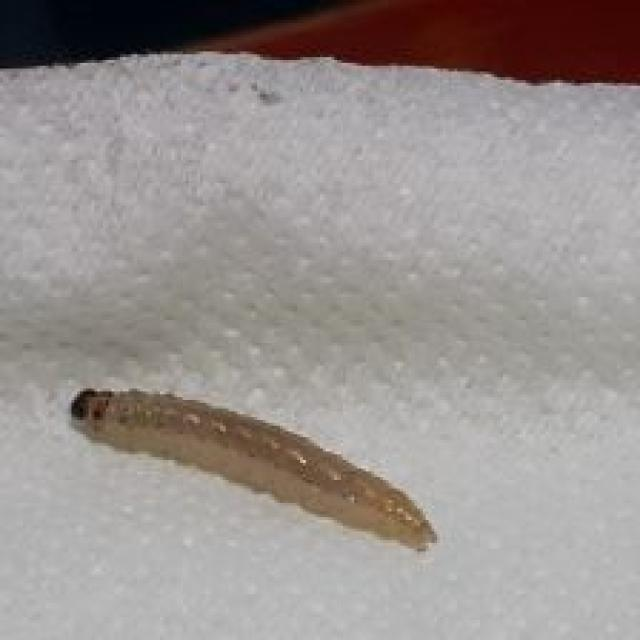white mucus: (60, 366, 453, 554)
